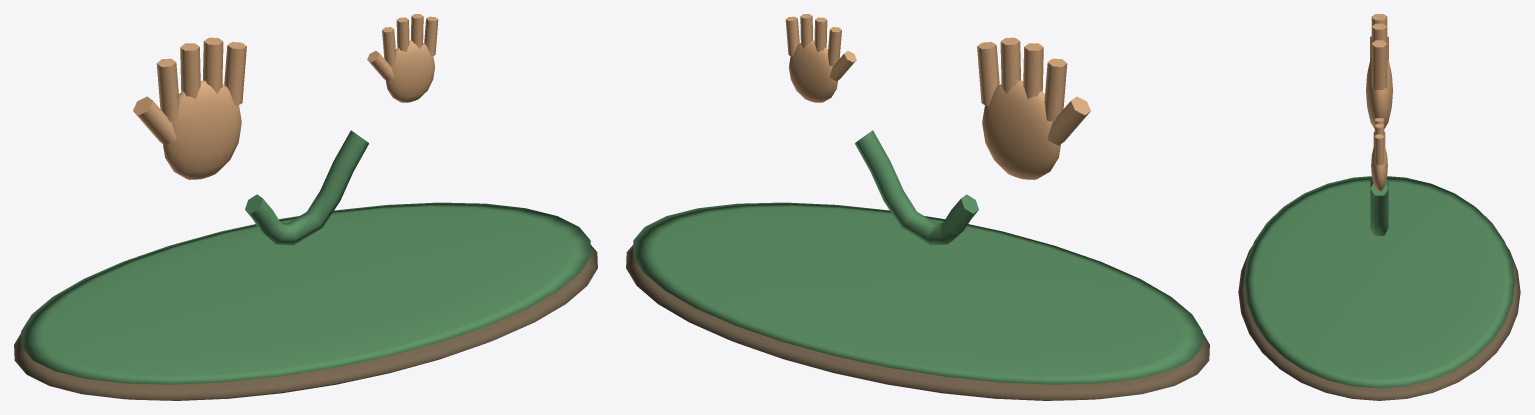
File: complete-second-hand-thumb-correct.glb
3 renders of one model, left to right at view 1: azimuth 30°, elevation 25°; view 2: azimuth 150°, elevation 25°; view 3: azimuth 270°, elevation 25°, orthographic. The views are drawn at different scales.
Visible parts, largest first — view 1: complete-second-hand-thumb-correct_surface_01, complete-second-hand-thumb-correct_surface_02, complete-second-hand-thumb-correct_surface_00; view 2: complete-second-hand-thumb-correct_surface_01, complete-second-hand-thumb-correct_surface_02, complete-second-hand-thumb-correct_surface_00; view 3: complete-second-hand-thumb-correct_surface_01, complete-second-hand-thumb-correct_surface_00, complete-second-hand-thumb-correct_surface_02.
Boxes of the visible parts, x1,y1,x2,y2 form: complete-second-hand-thumb-correct_surface_01: (21, 130, 590, 384); complete-second-hand-thumb-correct_surface_02: (133, 14, 438, 179); complete-second-hand-thumb-correct_surface_00: (14, 245, 597, 400); complete-second-hand-thumb-correct_surface_01: (633, 130, 1202, 384); complete-second-hand-thumb-correct_surface_02: (785, 14, 1090, 179); complete-second-hand-thumb-correct_surface_00: (626, 245, 1209, 400); complete-second-hand-thumb-correct_surface_01: (1244, 176, 1514, 388); complete-second-hand-thumb-correct_surface_00: (1238, 246, 1520, 400); complete-second-hand-thumb-correct_surface_02: (1366, 14, 1392, 191).
Size of the model in its own units: 4.56 by 2.37 by 2.5.
